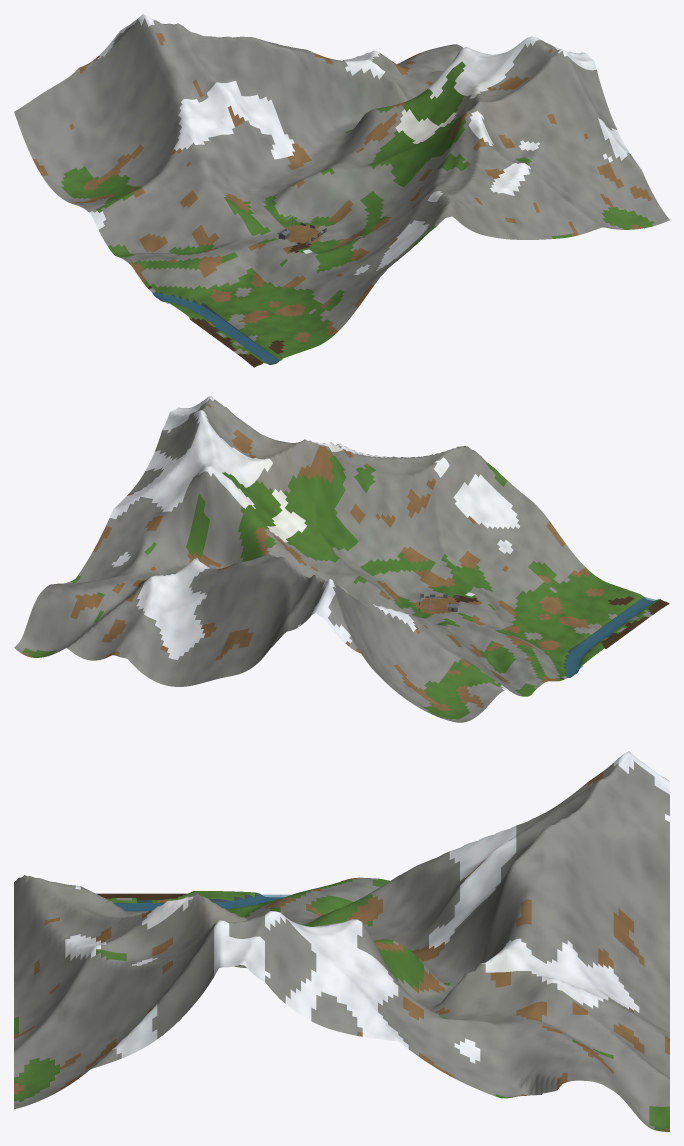
Rendered from chunk_4_2.glb.
The picture shows the model from 3 angles, top to bottom: view 1: azimuth 30°, elevation 25°; view 2: azimuth 150°, elevation 25°; view 3: azimuth 270°, elevation 25°; orthographic projection. The views are drawn at different scales.
Visible parts, largest first — view 1: Surface_Gravel, Surface_Grass, Surface_Snow, Surface_Dirt, Surface_Water, Water, Surface_Mud; view 2: Surface_Gravel, Surface_Grass, Surface_Snow, Surface_Dirt, Surface_Water, Water, Surface_Mud; view 3: Surface_Gravel, Surface_Snow, Surface_Dirt, Surface_Grass, Surface_Water, Water.
Part boxes in pixels (x1,y1,x2,y2): Surface_Gravel: (14,18,669,354); Surface_Grass: (61,56,654,363); Surface_Snow: (89,14,629,275); Surface_Dirt: (33,33,651,350); Surface_Water: (153,292,279,364); Water: (152,292,282,363); Surface_Mud: (147,242,311,367); Surface_Gravel: (14,398,652,722); Surface_Grass: (22,450,659,719); Surface_Snow: (110,396,519,689); Surface_Dirt: (21,404,626,711); Surface_Water: (563,597,655,677); Water: (565,597,655,678); Surface_Mud: (454,595,669,679); Surface_Gravel: (14,761,669,1129); Surface_Snow: (65,751,669,1063); Surface_Dirt: (14,771,669,1131); Surface_Grass: (14,878,669,1131); Surface_Water: (113,892,283,910); Water: (115,894,290,911).
Bounding box in the file's own units: 256 × 101 × 256.
